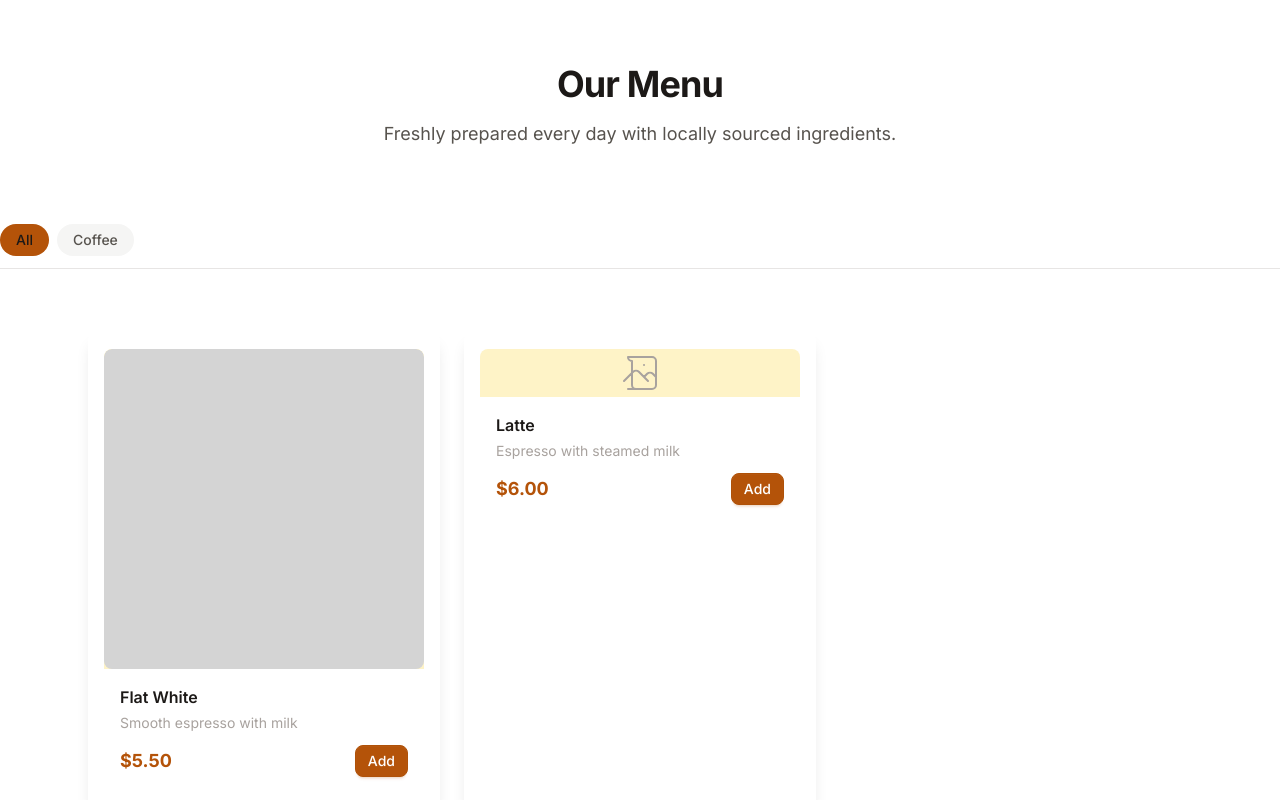
Test: MenuPage › opens detail dialog for items with modifiers
Click the button "Add" in the row of "$6.00" at (757, 489), box [731,473,784,505]
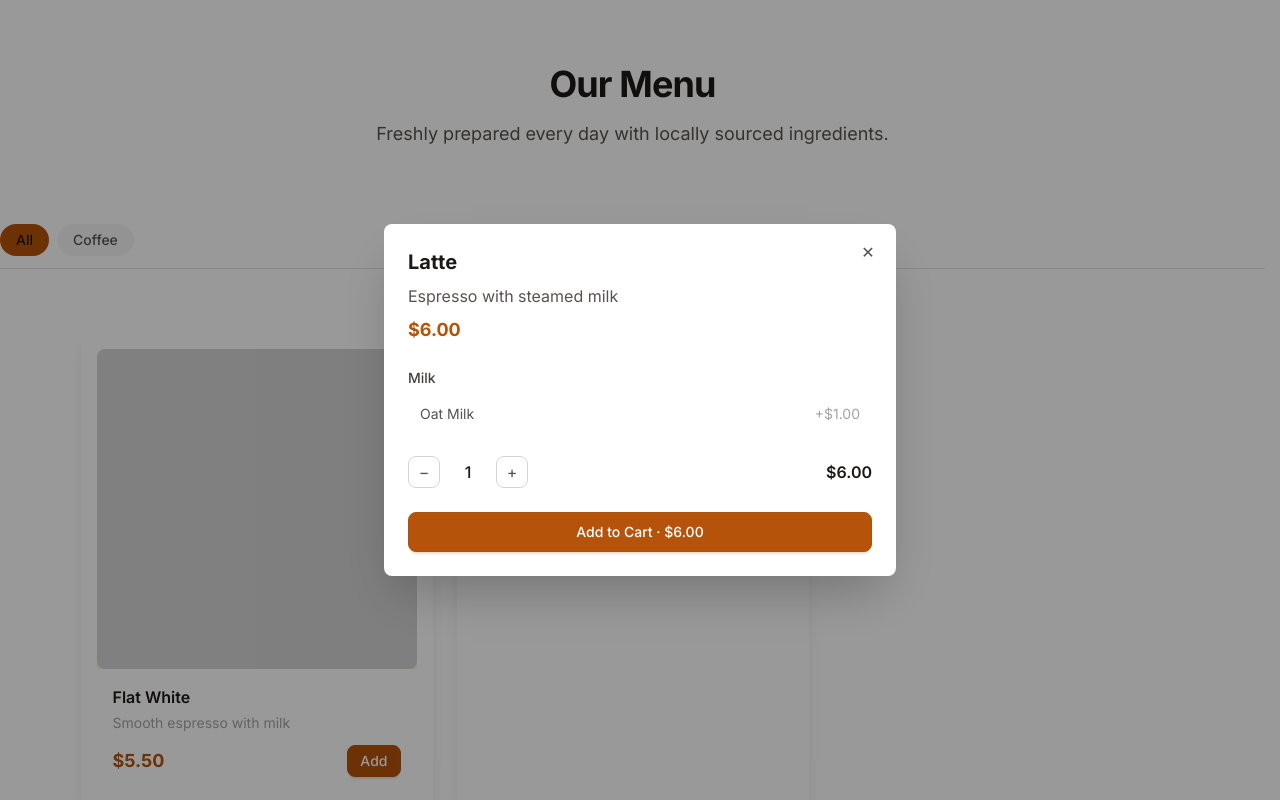
Expected: the heading "Latte" is shown, [408,250,457,274]
